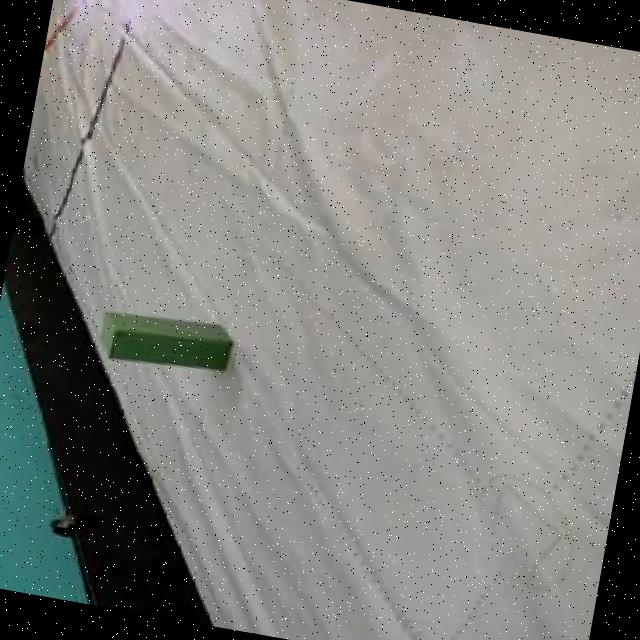greenbox: (94, 306, 235, 382)
